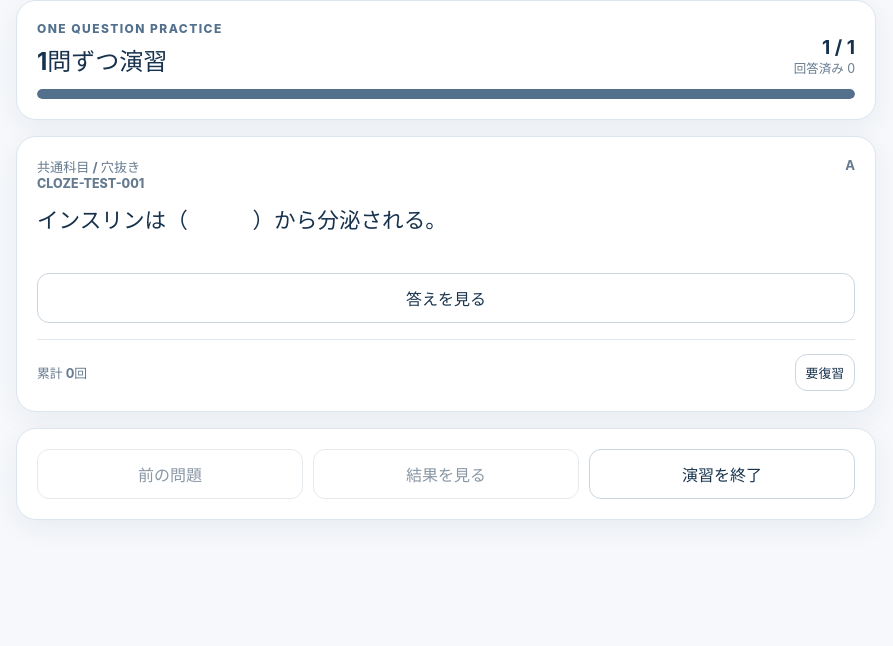
Test: common cloze self assessment › reveals the answer without a text input and records review self-assessment
The width and height of the screenshot is (893, 646).
Click the button "答えを見る". click: {"x": 446, "y": 298}
box: [37,273,855,323]
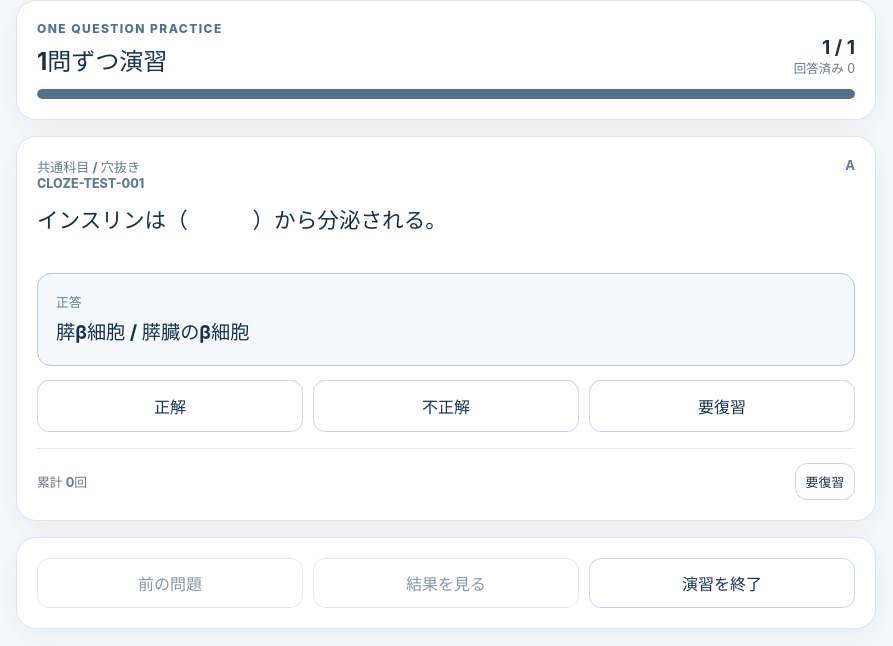
Now the message shows "正答", box [56,295,82,310]
Now the message shows "膵β細胞", box [56,320,249,344]
Now the button "正解" is shown, box [37,380,303,432]
Click the 1st button "要復習". click: {"x": 722, "y": 406}
box: [589,380,855,432]
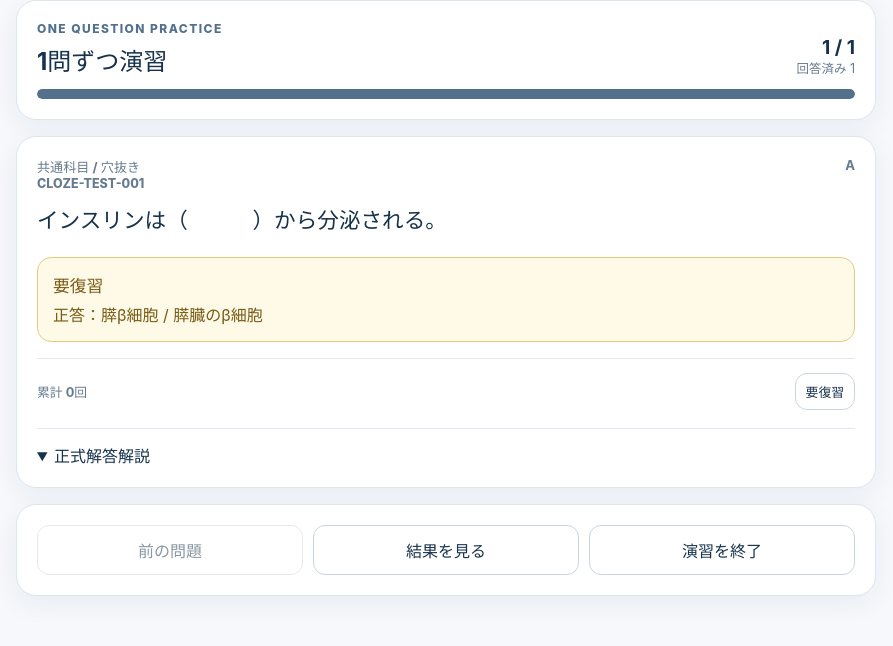
Now the message shows "要復習", box [53,276,103,296]
Now the message shows "正答：膵β細胞 / 膵臓のβ細胞", box [37,257,855,342]
